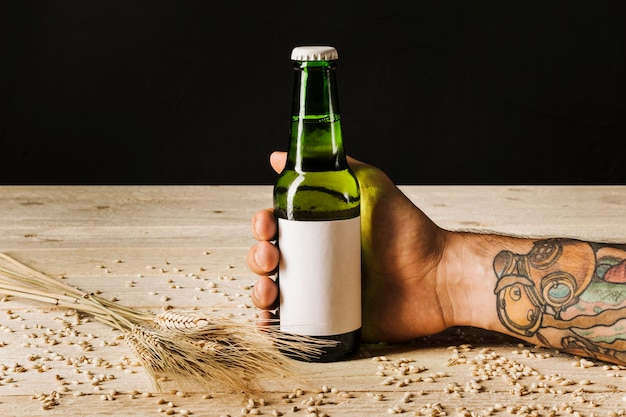alcohol: (271, 40, 362, 363)
